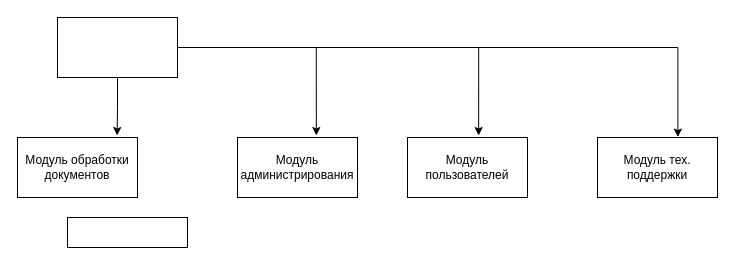
Some shapes in this 735 by 265 pixel diagram are drawn without their labels. Each missing label, with the box of its shape:
CRUD документов: (66, 216, 188, 248)
Главный модуль: (56, 16, 178, 78)
